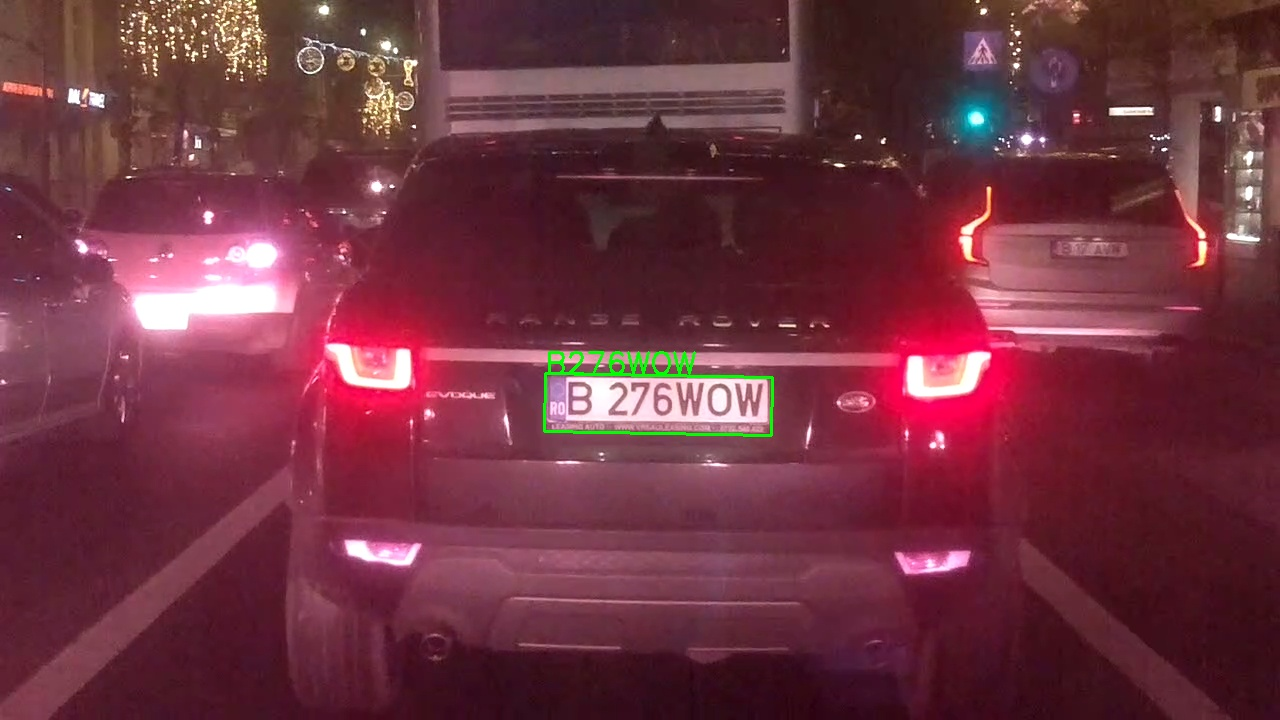license-plate: (543, 372, 773, 437)
